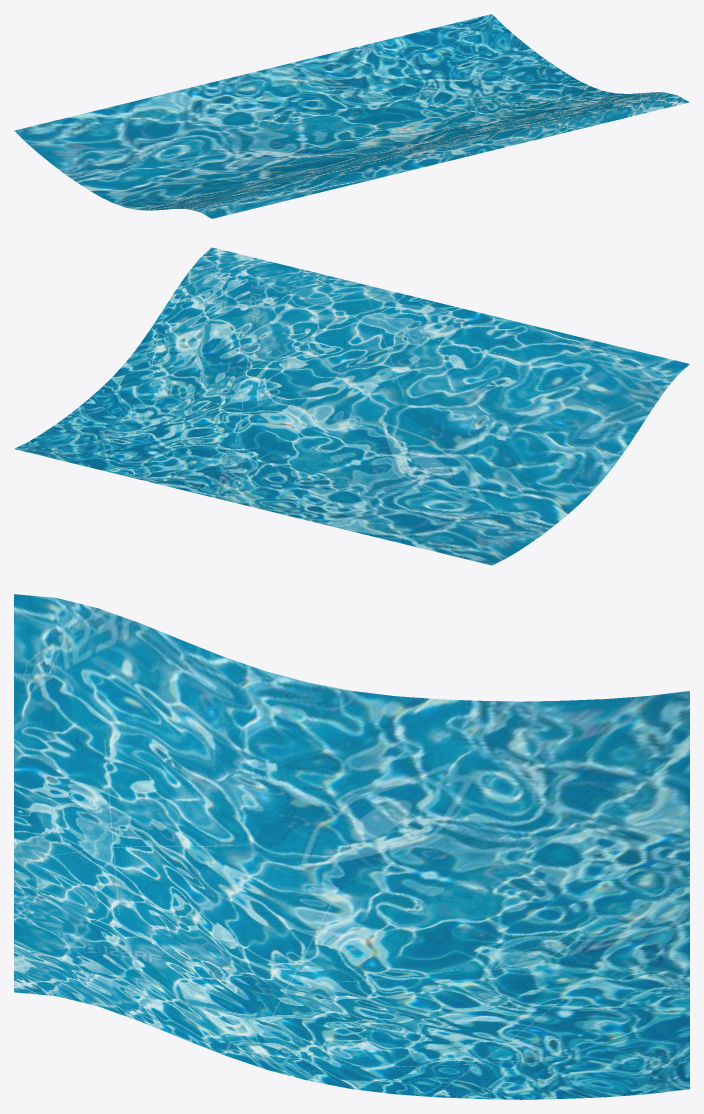
The model's file is Olas8.obj.
3 views of the same model, one above another, from view 1: azimuth 30°, elevation 25°; view 2: azimuth 150°, elevation 25°; view 3: azimuth 270°, elevation 25° (orthographic). The views are drawn at different scales.
Parts seen in each view (by area): view 1: Plane; view 2: Plane; view 3: Plane.
Part boxes in pixels (x1=…): Plane: x1=14, y1=14, x2=689, y2=218; Plane: x1=14, y1=247, x2=689, y2=565; Plane: x1=14, y1=594, x2=689, y2=1099.
Size of the model in its own units: 13.82 by 1.74 by 9.91.
